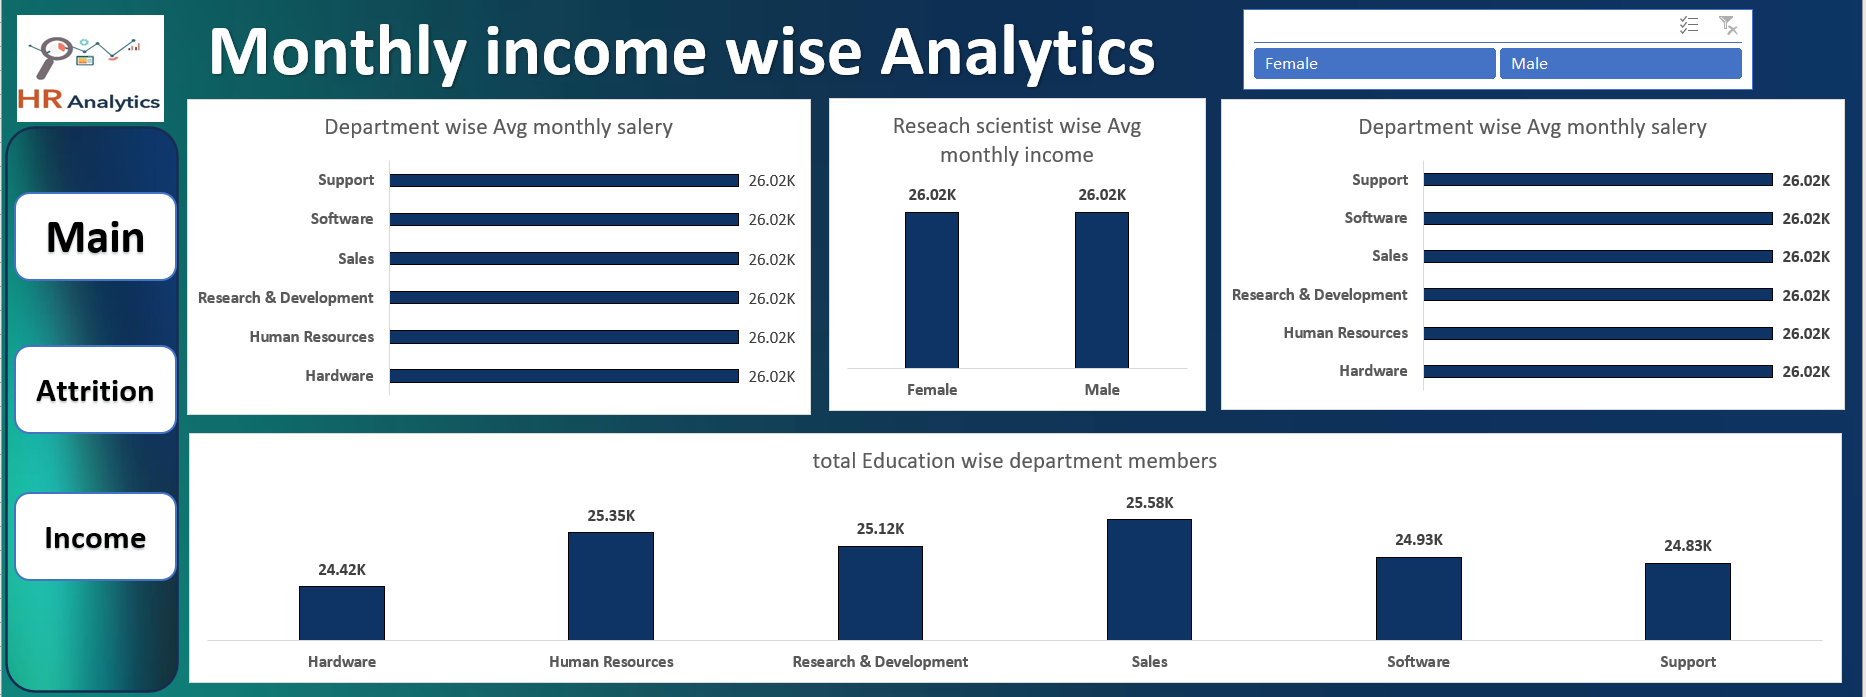

This screenshot's page, from the dashboard's own definition file:
{"tool":"powerbi","page":{"name":"3","canvas":[1280,720],"ordinal":3},"visuals":[{"type":"shape","box":[67.9,15.5,854.8,97.6],"z":0},{"type":"group","id":"g1","title":"Group 1","box":[8.3,288.1,138.1,309.5],"z":0,"group":"g2"},{"type":"gauge","title":"Total monthly income","fields":{"Y":["Sum(HR_2.MonthlyIncome)"]},"box":[153.6,139.3,553.6,254.8],"z":1000},{"type":"image","title":"Main","box":[39.3,152.4,77.4,79.8],"z":1000,"group":"g2"},{"type":"barChart","title":"Research scientist wise Avg MonthlyIncome","fields":{"Category":["HR_1.Gender"],"Y":["Avg(HR_2.MonthlyIncome)"]},"box":[733.3,139.3,521.4,254.8],"z":2000},{"type":"clusteredBarChart","title":"MonthlyIncome by Department","fields":{"Category":["HR_1.Department","HR_1.JobRole"],"Y":["Sum(HR_2.MonthlyIncome)"]},"box":[153.6,417.9,564.3,279.8],"z":3000},{"type":"clusteredBarChart","title":" Department wise Avg MonthlyIncome","fields":{"Category":["HR_1.Department","HR_1.JobRole"],"Y":["Avg(HR_2.MonthlyIncome)"]},"box":[733.3,419,521.4,279.8],"z":4000},{"type":"slicer","fields":{"Values":["Features.Features"]},"box":[895.2,36.9,320.2,76.2],"z":5000},{"type":"group","id":"g2","title":"Group 2","box":[8.3,152.4,138.1,445.2],"z":6000},{"type":"slicer","fields":{"Values":["HR_1.Gender"]},"box":[8.3,288.1,138.1,81],"z":6000,"group":"g1"},{"type":"image","box":[11.9,17.9,97.6,95.2],"z":7000},{"type":"slicer","fields":{"Values":["HR_1.BusinessTravel"]},"box":[11.9,516.7,129.8,81],"z":7000,"group":"g1"}]}

Visuals, with their boxes on the page's 1280x720 design canvas (x1, y1, x2, y2). These are canvas units, not pixel positions in the 1866x697 screenshot, which may show the page scaled, cropped or inside an application window:
shape: Rect(68, 16, 923, 113)
"Group 1" group: Rect(8, 288, 146, 598)
"Total monthly income" gauge: Rect(154, 139, 707, 394)
"Main" image: Rect(39, 152, 117, 232)
"Research scientist wise Avg MonthlyIncome" barChart: Rect(733, 139, 1255, 394)
"MonthlyIncome by Department" clusteredBarChart: Rect(154, 418, 718, 698)
" Department wise Avg MonthlyIncome" clusteredBarChart: Rect(733, 419, 1255, 699)
slicer - Features.Features: Rect(895, 37, 1215, 113)
"Group 2" group: Rect(8, 152, 146, 598)
slicer - HR_1.Gender: Rect(8, 288, 146, 369)
image: Rect(12, 18, 110, 113)
slicer - HR_1.BusinessTravel: Rect(12, 517, 142, 598)
